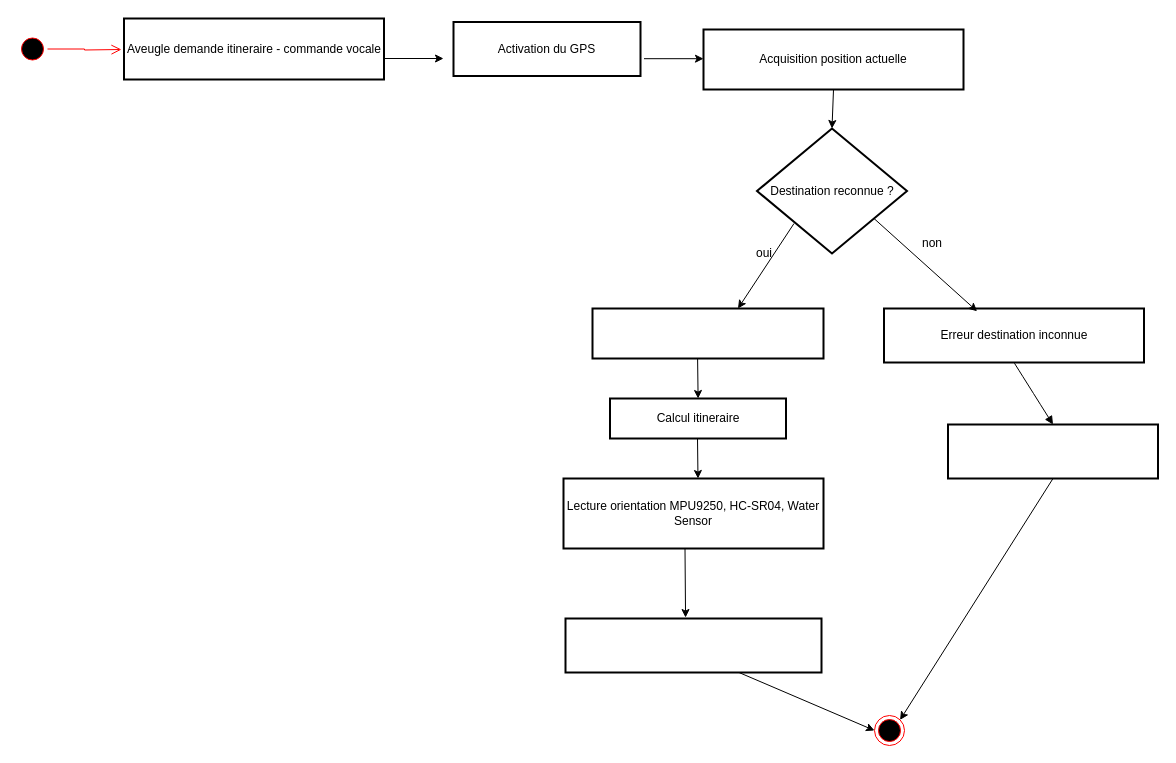
This 1176x763 diagram has some shape labels left out. The centre of each missing label's shape, as x and y in pixels:
"Envoi requete itineraire" belongs at point (707, 333).
"Guidage vocal et vibratoire" belongs at point (693, 645).
"Message vocal erreur" belongs at point (1052, 451).
